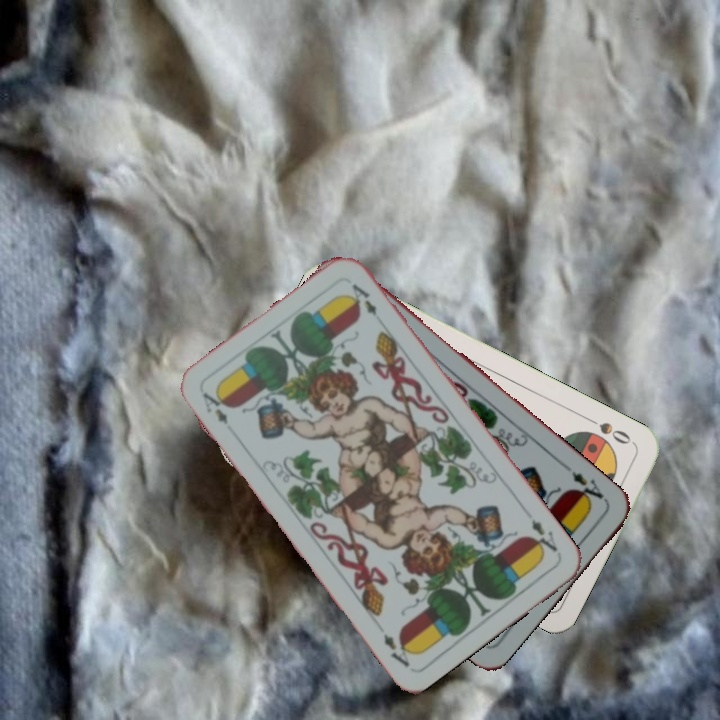EA: (560, 461, 607, 507), (526, 515, 560, 559), (198, 387, 232, 428)
SO: (583, 413, 634, 447)
